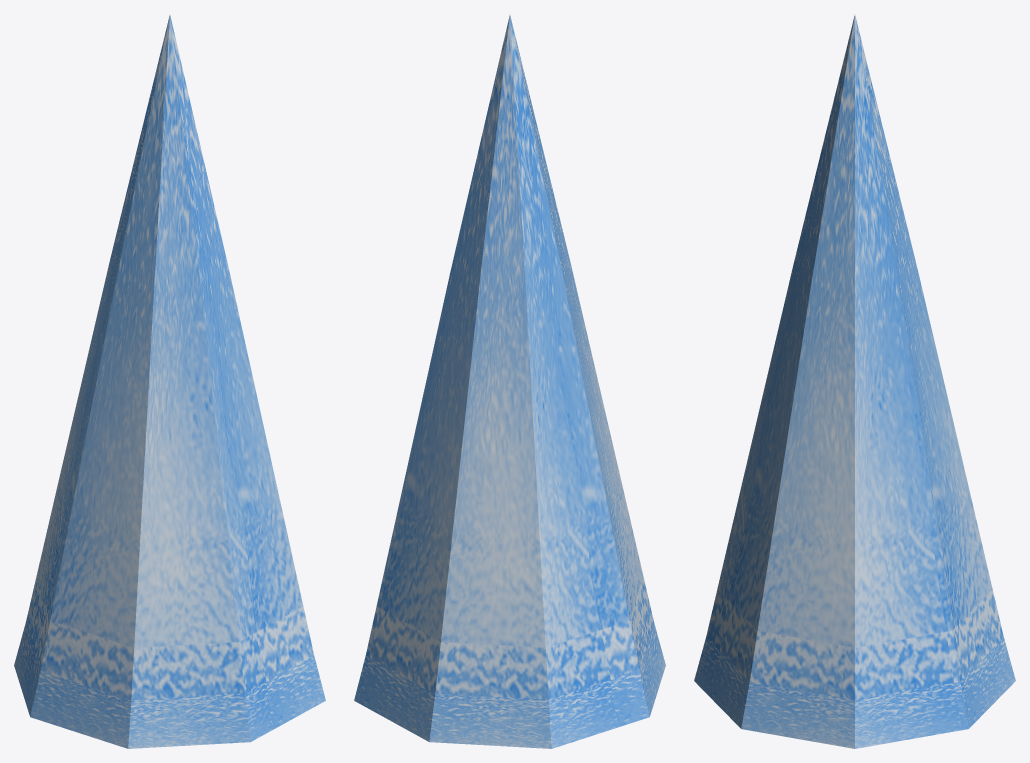
Rendered from Hit.fbx.
The picture shows the model from 3 angles, left to right: view 1: azimuth 30°, elevation 25°; view 2: azimuth 150°, elevation 25°; view 3: azimuth 270°, elevation 25°; orthographic projection.
Visible parts, largest first — view 1: Ice_Attack:IceAttack; view 2: Ice_Attack:IceAttack; view 3: Ice_Attack:IceAttack.
Part boxes in pixels (<box>): Ice_Attack:IceAttack: <box>14,15,325,748</box>; Ice_Attack:IceAttack: <box>354,15,665,748</box>; Ice_Attack:IceAttack: <box>694,15,1015,748</box>.
Bounding box in the file's own units: 1.37 × 3.3 × 1.37.
1 material, 1 textured.
